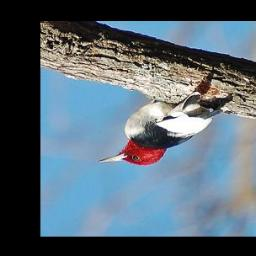Woodpecker: (95, 90, 224, 167)
